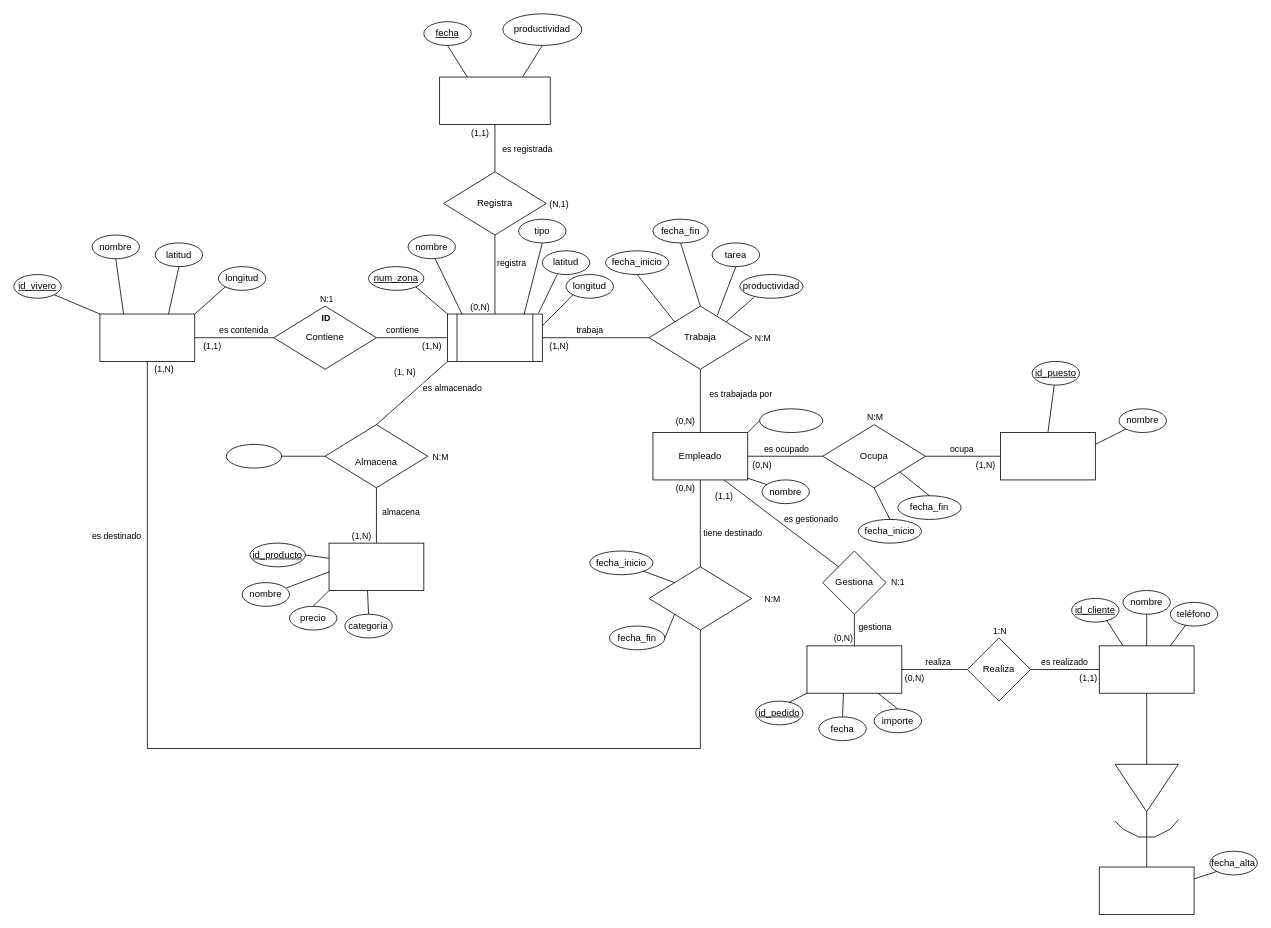
This 1271x928 diagram has some shape labels left out. The box of each missing label's shape, as (x1, y1, x2, y2) in pixels:
cantidad: (226, 444, 282, 468)
Cliente: (1098, 645, 1194, 693)
Cliente_plus: (1098, 866, 1194, 914)
Destinado: (648, 566, 752, 630)
id_empleado: (759, 408, 823, 433)
Pedido: (806, 645, 902, 693)
Producto: (328, 542, 424, 591)
Puesto: (1000, 432, 1095, 480)
Registro_productividad: (439, 76, 550, 124)
Vivero: (99, 313, 195, 361)
Zona: (447, 313, 542, 361)
